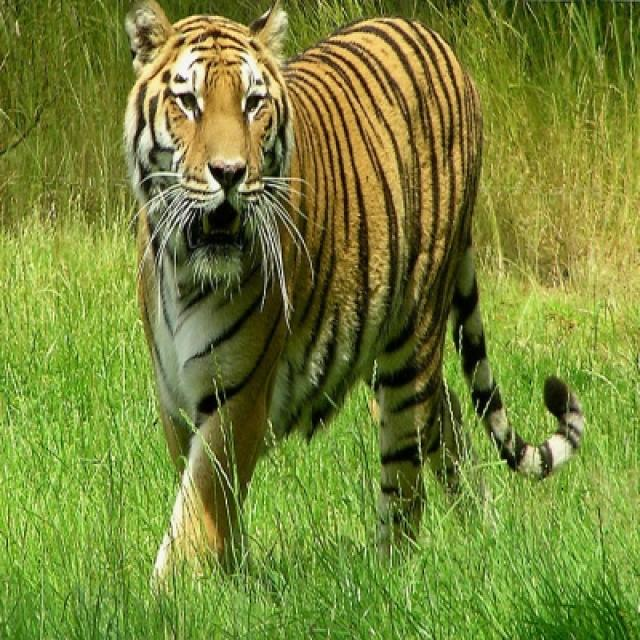Tiger: (123, 0, 579, 576)
